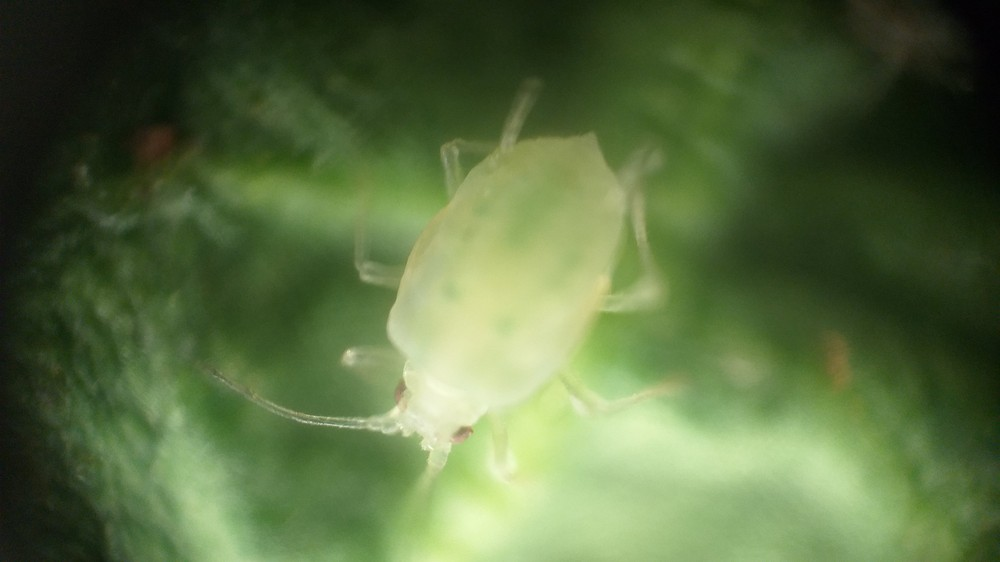Pulgon: (214, 62, 748, 557)
